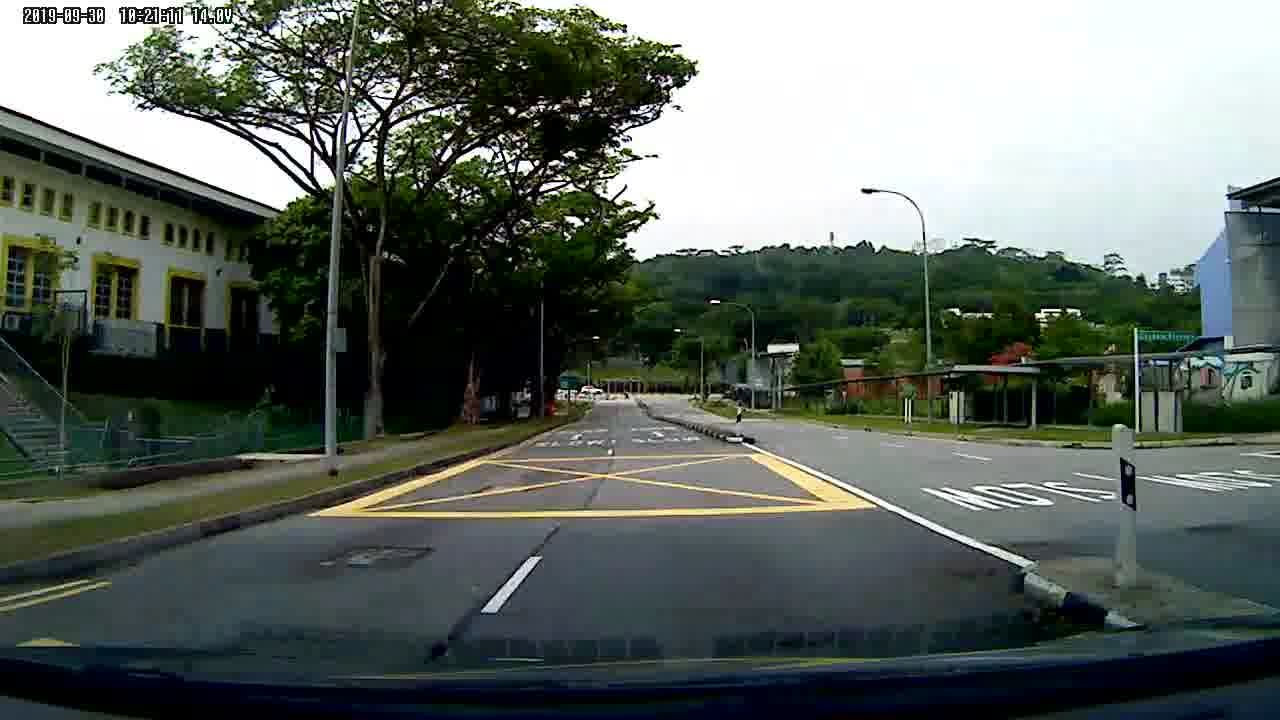car: (579, 383, 603, 398)
